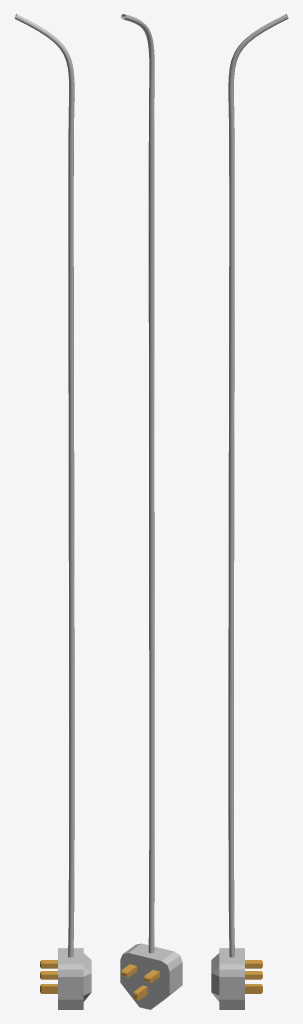
Rendered from lamp cord.fbx.
The picture shows the model from 3 angles, left to right: view 1: azimuth 90°, elevation 25°; view 2: azimuth 150°, elevation 25°; view 3: azimuth 270°, elevation 25°; orthographic projection.
Parts seen in each view (by area): view 1: Lamp Cable, Lamp Plug; view 2: Lamp Cable, Lamp Plug; view 3: Lamp Cable, Lamp Plug.
Part boxes in pixels (x1=…): Lamp Cable: x1=14, y1=14, x2=74, y2=957; Lamp Plug: x1=40, y1=948, x2=91, y2=1009; Lamp Cable: x1=121, y1=14, x2=154, y2=953; Lamp Plug: x1=120, y1=943, x2=182, y2=1009; Lamp Cable: x1=228, y1=14, x2=288, y2=957; Lamp Plug: x1=211, y1=948, x2=262, y2=1009.
Size of the model in its own units: 6.58 by 129 by 9.09.
